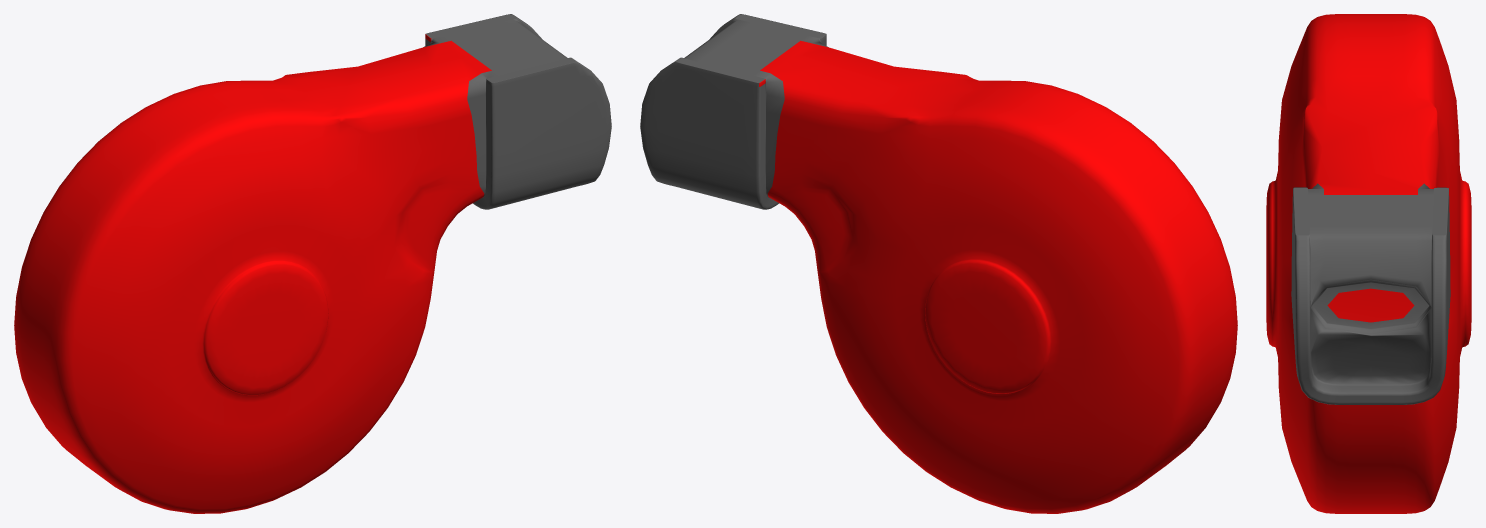
Rendered from TicketingMachine.fbx.
3 renders of one model, left to right at view 1: azimuth 30°, elevation 25°; view 2: azimuth 150°, elevation 25°; view 3: azimuth 270°, elevation 25°, orthographic. The views are drawn at different scales.
Visible parts, largest first — view 1: pCylinder37 (×2); view 2: pCylinder37 (×2); view 3: pCylinder37 (×2).
Boxes of the visible parts, x1=… form: pCylinder37 (×2): x1=14, y1=14, x2=611, y2=513; pCylinder37 (×2): x1=640, y1=14, x2=1237, y2=513; pCylinder37 (×2): x1=1266, y1=14, x2=1471, y2=513.
Bounding box in the file's own units: 42.97 × 29.69 × 12.21.
